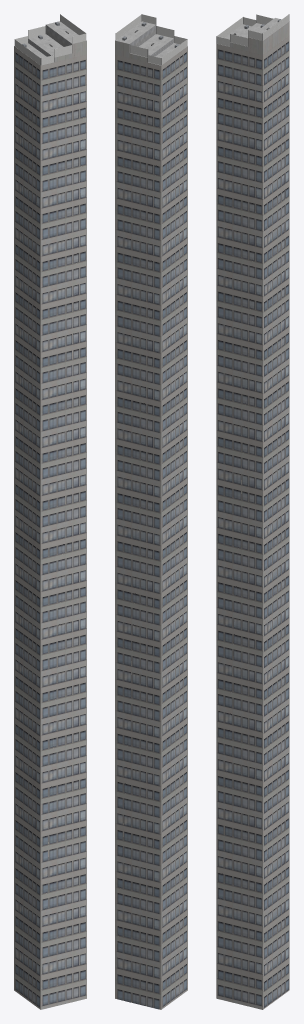
File: Building 4.fbx
3 views of the same model, side by side, from view 1: azimuth 30°, elevation 25°; view 2: azimuth 150°, elevation 25°; view 3: azimuth 330°, elevation 25° (orthographic).
Visible parts, largest first — view 1: pCube37; view 2: pCube37; view 3: pCube37.
Boxes of the visible parts, x1,y1,x2,y2 form: pCube37: (14,14,86,1009); pCube37: (115,14,187,1009); pCube37: (216,14,289,1009).
Size of the model in its own units: 21.51 by 431 by 21.52.
Materials: 7 (6 with a texture image).
